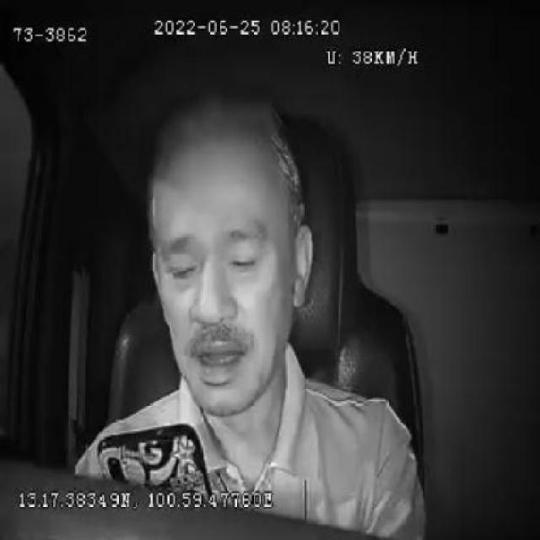phone: (98, 421, 212, 493)
